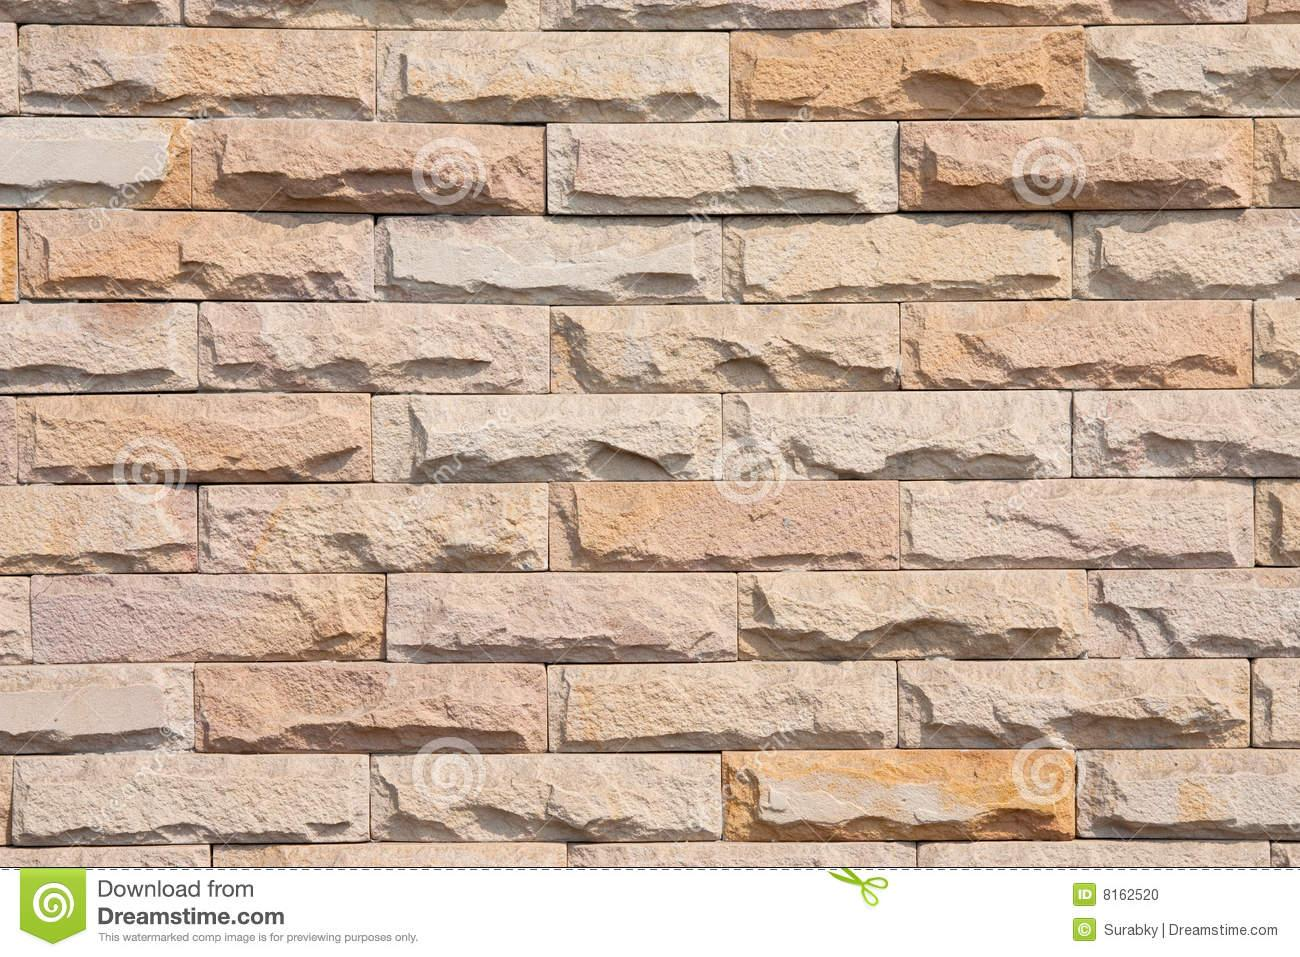brick: (192, 118, 545, 214), (18, 25, 373, 119), (721, 749, 1077, 842), (730, 26, 1084, 119), (198, 302, 551, 395), (547, 121, 899, 214), (18, 208, 373, 300), (549, 480, 899, 572), (12, 754, 369, 845), (547, 660, 898, 752), (899, 119, 1254, 209), (723, 390, 1071, 481), (372, 393, 721, 484), (30, 575, 386, 664), (377, 31, 729, 121), (18, 394, 372, 483), (194, 664, 548, 753), (738, 570, 1087, 660), (901, 300, 1253, 389), (199, 483, 549, 571), (389, 571, 735, 661), (550, 303, 898, 392), (898, 659, 1250, 747), (374, 215, 721, 304), (900, 481, 1253, 567), (725, 213, 1071, 301), (371, 754, 721, 841), (1073, 208, 1300, 299), (1073, 389, 1300, 476), (1078, 748, 1300, 837), (1085, 25, 1300, 115), (1088, 568, 1300, 657), (1, 303, 198, 394), (0, 116, 191, 208), (1, 486, 197, 574), (1, 663, 193, 753)
